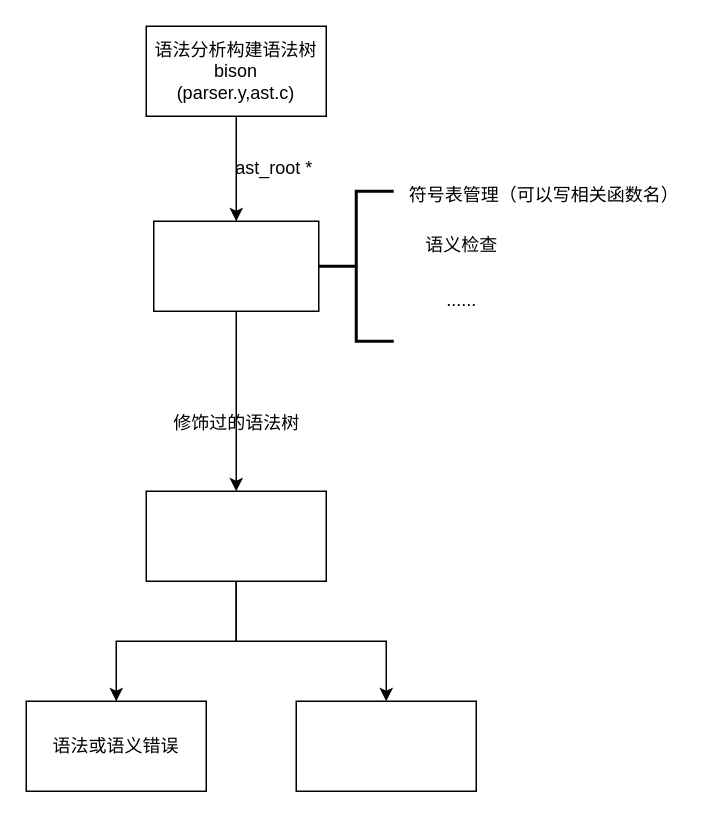
Image size: 720x818. Some labels were removed from this diagram. The centre of each missing label's shape, as x and y in pixels:
结果输出 （相关文件）: (x=235, y=535)
语义分析 （相关文件名）: (x=235, y=265)
